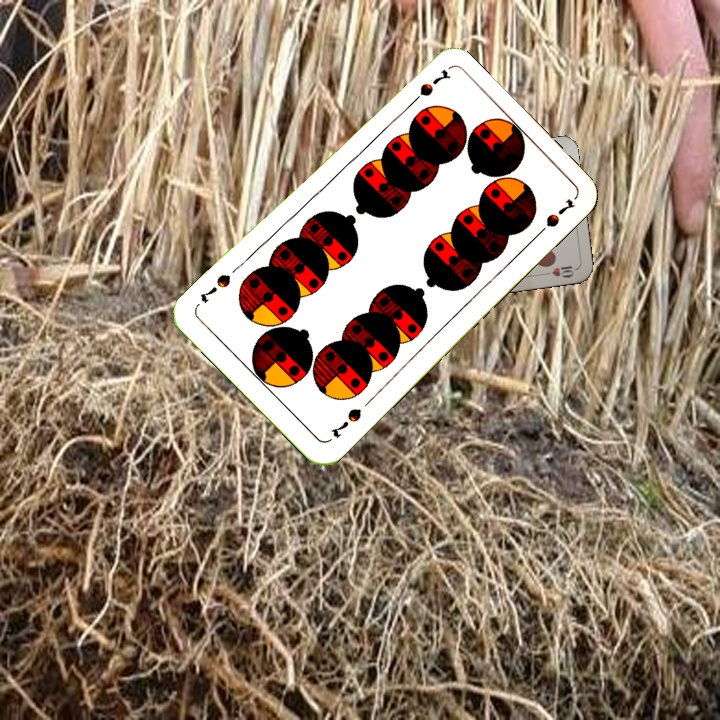S7: (403, 65, 451, 111), (326, 404, 364, 441)
